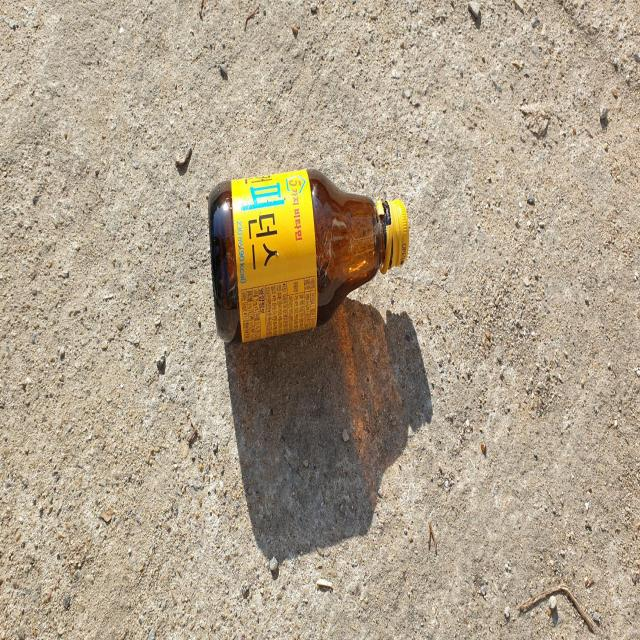glass: (208, 168, 409, 342)
